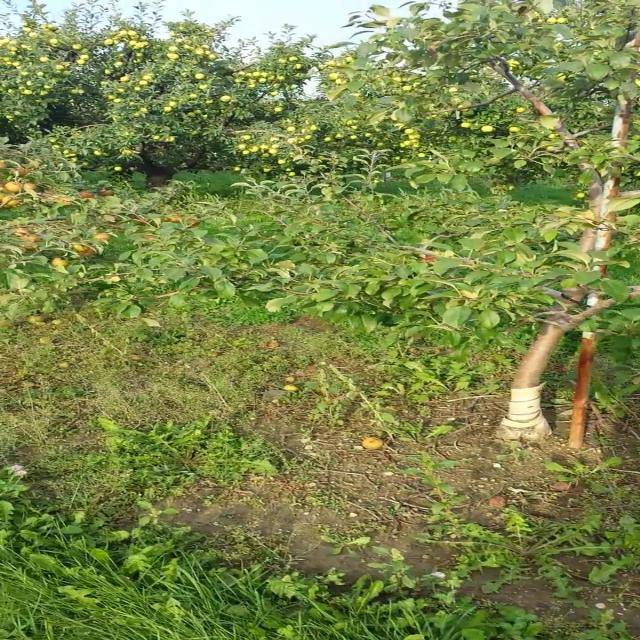apple: (419, 256, 439, 264), (20, 244, 36, 252), (6, 184, 21, 192), (13, 228, 28, 236), (13, 168, 28, 176), (28, 236, 43, 243), (6, 200, 21, 207), (170, 216, 183, 224), (56, 260, 69, 267), (84, 192, 94, 200), (84, 248, 94, 256), (63, 200, 75, 206), (99, 236, 112, 241), (28, 184, 36, 191), (77, 244, 85, 251)
